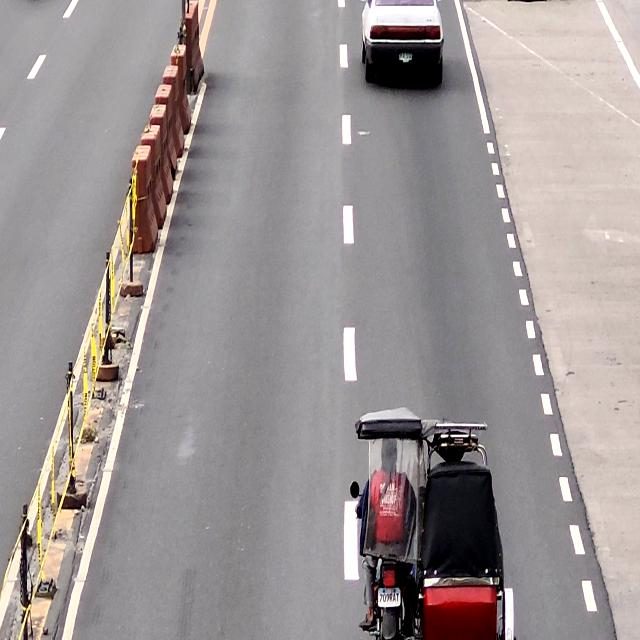Car: (362, 0, 444, 87)
License-Plate: (378, 586, 401, 606), (398, 52, 413, 62)
Tricycle: (351, 408, 516, 640)
